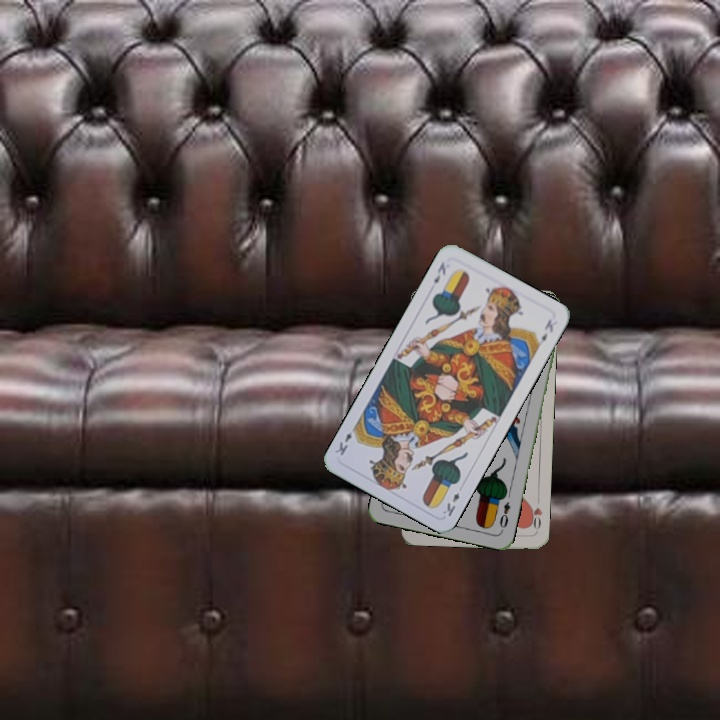EK: (439, 488, 462, 519), (429, 258, 448, 286)
EO: (495, 498, 513, 534)
HO: (525, 493, 545, 534)
